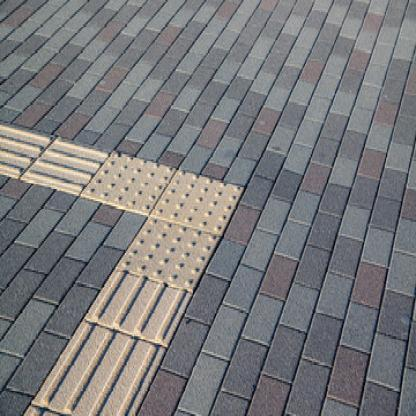podotacti: (0, 86, 247, 416)
